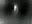person: (14, 4, 19, 17)
